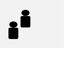human: (19, 8, 31, 27), (7, 20, 19, 39)
